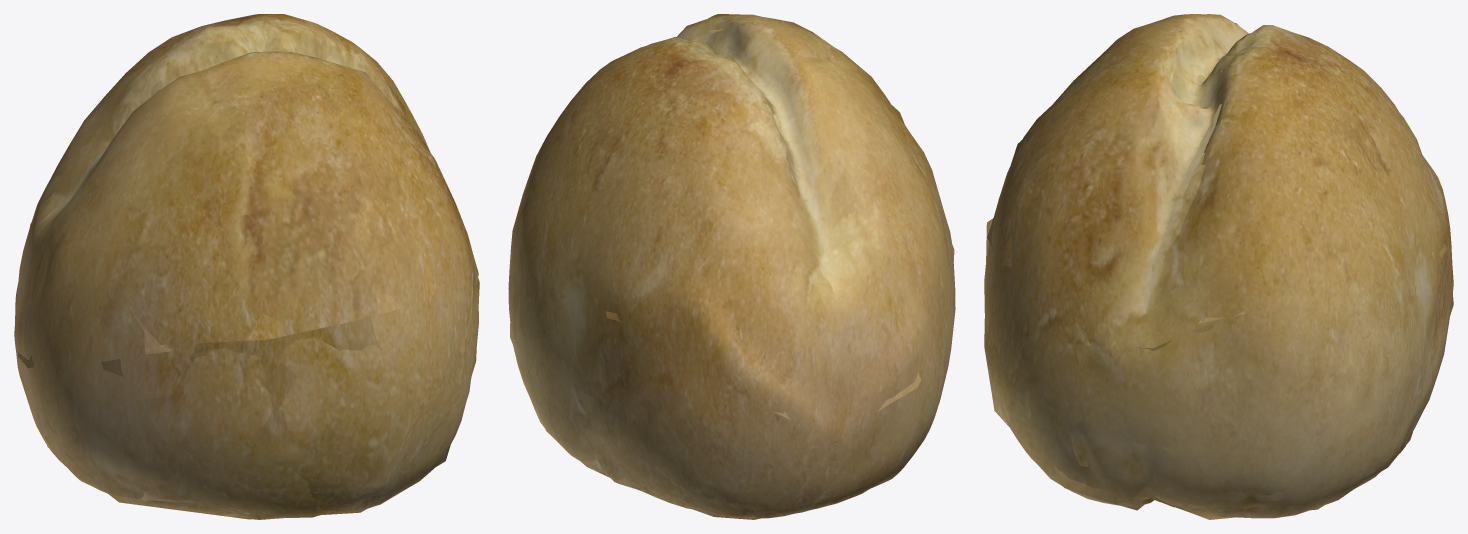
File: burger-bun.glb
The picture shows the model from 3 angles, left to right: view 1: azimuth 30°, elevation 25°; view 2: azimuth 150°, elevation 25°; view 3: azimuth 270°, elevation 25°; orthographic projection. The views are drawn at different scales.
Parts seen in each view (by area): view 1: burger-bun-fine, burger-bun-coarse; view 2: burger-bun-fine, burger-bun-coarse; view 3: burger-bun-fine, burger-bun-coarse.
Boxes of the visible parts, <box> form: burger-bun-fine: <box>14,14,478,519</box>; burger-bun-coarse: <box>18,29,479,519</box>; burger-bun-fine: <box>508,14,955,518</box>; burger-bun-coarse: <box>510,26,955,519</box>; burger-bun-fine: <box>984,14,1453,518</box>; burger-bun-coarse: <box>984,23,1453,519</box>.
Size of the model in its own units: 1 by 1 by 1.
Materials: 1 (1 with a texture image).
